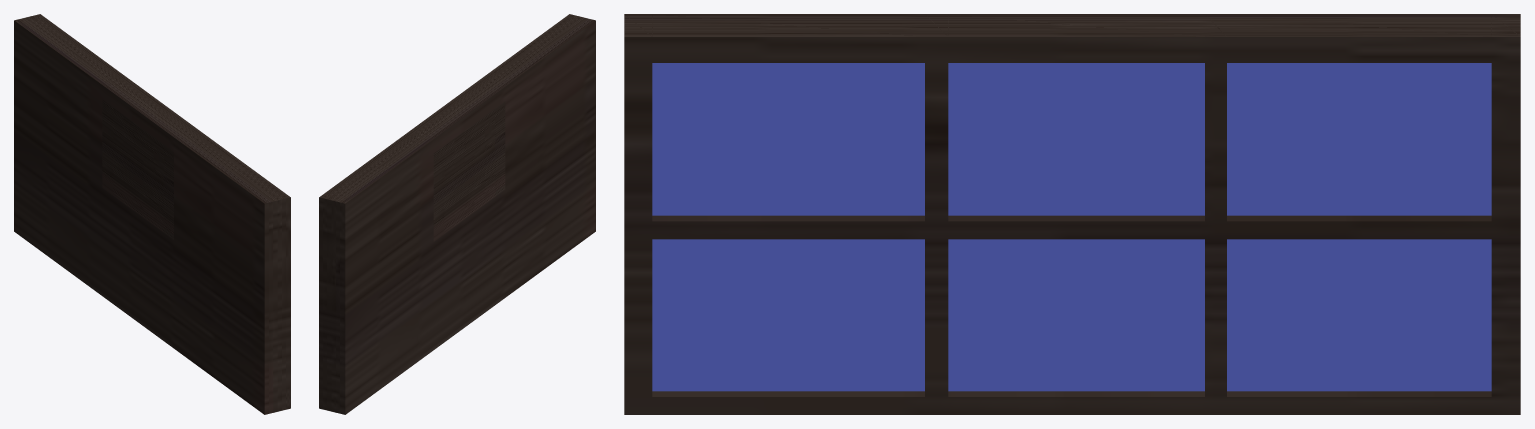
The model's file is window.fbx.
3 views of the same model, side by side, from view 1: azimuth 30°, elevation 25°; view 2: azimuth 150°, elevation 25°; view 3: azimuth 270°, elevation 25° (orthographic). The views are drawn at different scales.
Parts seen in each view (by area): view 1: Cube; view 2: Cube; view 3: Cube.002, Cube.
Part boxes in pixels (x1,y1,x2,y2): Cube: [14, 14, 290, 414]; Cube: [319, 14, 595, 414]; Cube.002: [652, 63, 1491, 391]; Cube: [624, 14, 1520, 414].
Bounding box in the file's own units: 118 × 909 × 1954.
2 materials, 1 textured.
